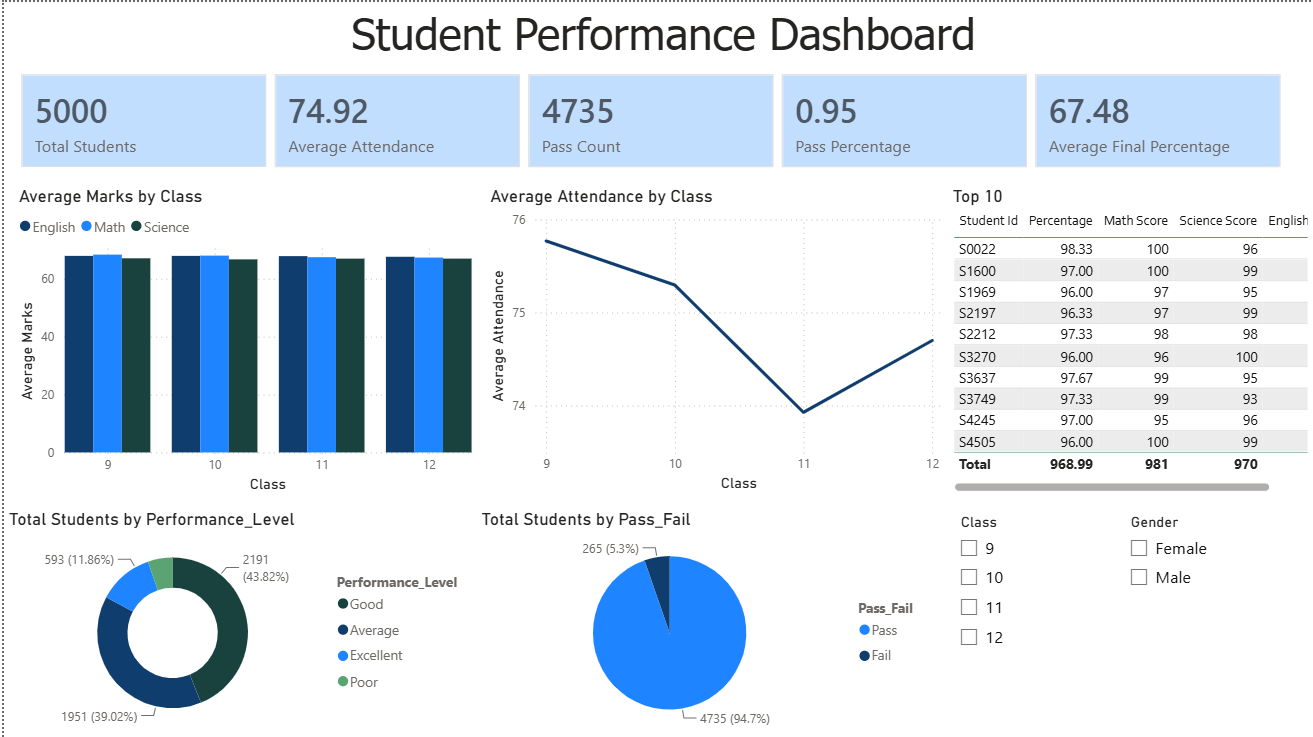

This screenshot's page, from the dashboard's own definition file:
{"tool":"powerbi","page":{"name":"Page 1","canvas":[1280,720],"ordinal":0},"visuals":[{"type":"cardVisual","fields":{"Data":["Student_Performance_Dataset.Total Students","Student_Performance_Dataset.Average Attendance","Student_Performance_Dataset.Pass Count","Student_Performance_Dataset.Pass Percentage","Student_Performance_Dataset.Average Final Percentage"]},"box":[0,53.8,1270.5,126],"z":0},{"type":"textbox","box":[9.6,0,1270.7,67.2],"z":1000},{"type":"clusteredColumnChart","title":"Average Marks by Class","fields":{"Y":["Student_Performance_Dataset.Average English","Student_Performance_Dataset.Average Math","Student_Performance_Dataset.Average Science"],"Category":["Student_Performance_Dataset.Class"]},"box":[9.6,179.8,452.8,304.6],"z":2000},{"type":"lineChart","fields":{"Category":["Student_Performance_Dataset.Class"],"Y":["Student_Performance_Dataset.Average Attendance"]},"box":[470.8,179.8,452.4,304.5],"z":3000},{"type":"donutChart","fields":{"Category":["Student_Performance_Dataset.Performance_Level"],"Y":["Student_Performance_Dataset.Total Students"]},"box":[0,495.2,462.2,225],"z":4000},{"type":"pieChart","fields":{"Category":["Student_Performance_Dataset.Pass_Fail"],"Y":["Student_Performance_Dataset.Total Students"]},"box":[462.2,495.2,451.2,225],"z":5000},{"type":"tableEx","title":"Top 10","fields":{"Values":["Student_Performance_Dataset.Column1","Sum(Student_Performance_Dataset.Final_Percentage)","Sum(Student_Performance_Dataset.Math_Score)","Sum(Student_Performance_Dataset.Science_Score)","Sum(Student_Performance_Dataset.English_Score)"]},"box":[923.2,179.8,357.1,304.5],"z":6000},{"type":"slicer","fields":{"Values":["Student_Performance_Dataset (2).Class"]},"box":[923.2,495.2,166.3,225],"z":7000},{"type":"slicer","fields":{"Values":["Student_Performance_Dataset (2).Gender"]},"box":[1089.5,495.2,181,225],"z":8000}]}

Visuals, with their boxes in screenshot pixels (x1, y1, x2, y2), scaled from the page's 1280x720 canvas onto the 1313x737 screenshot:
cardVisual - Student_Performance_Dataset.Total Students x Student_Performance_Dataset.Average Attendance: select_region(0, 55, 1303, 184)
textbox: select_region(10, 0, 1312, 69)
"Average Marks by Class" clusteredColumnChart: select_region(10, 184, 474, 496)
lineChart - Student_Performance_Dataset.Class x Student_Performance_Dataset.Average Attendance: select_region(483, 184, 947, 496)
donutChart - Student_Performance_Dataset.Performance_Level x Student_Performance_Dataset.Total Students: select_region(0, 507, 474, 736)
pieChart - Student_Performance_Dataset.Pass_Fail x Student_Performance_Dataset.Total Students: select_region(474, 507, 937, 736)
"Top 10" tableEx: select_region(947, 184, 1312, 496)
slicer - Student_Performance_Dataset (2).Class: select_region(947, 507, 1118, 736)
slicer - Student_Performance_Dataset (2).Gender: select_region(1118, 507, 1303, 736)
